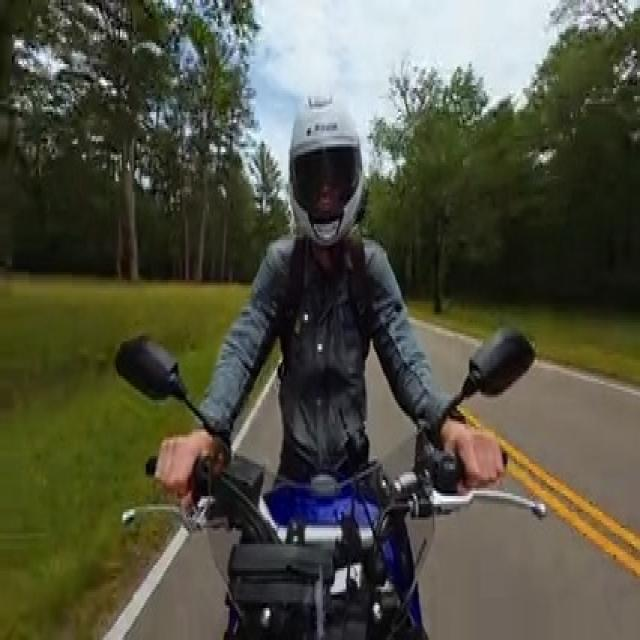Helmet_Wearer: (274, 84, 385, 251)
Person: (158, 82, 502, 510)
